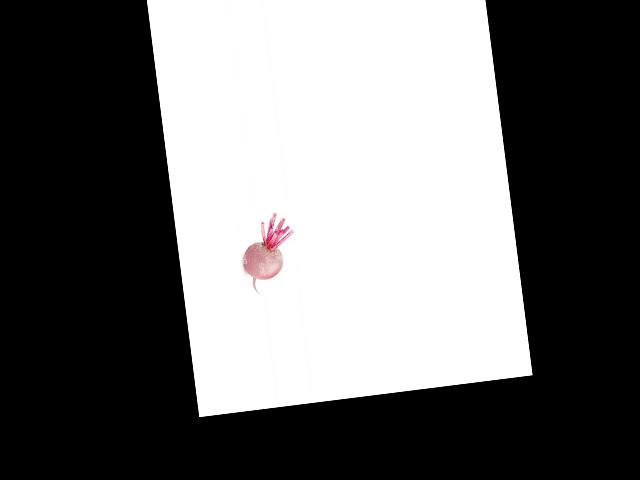beet: (237, 210, 300, 296)
